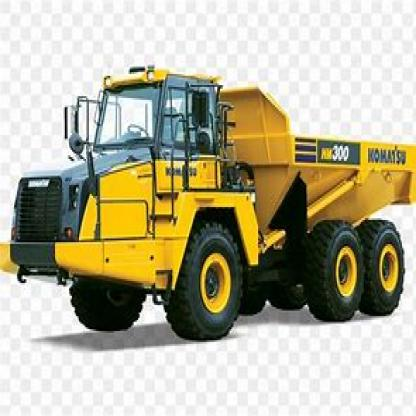dump_truck: (0, 54, 412, 344)
